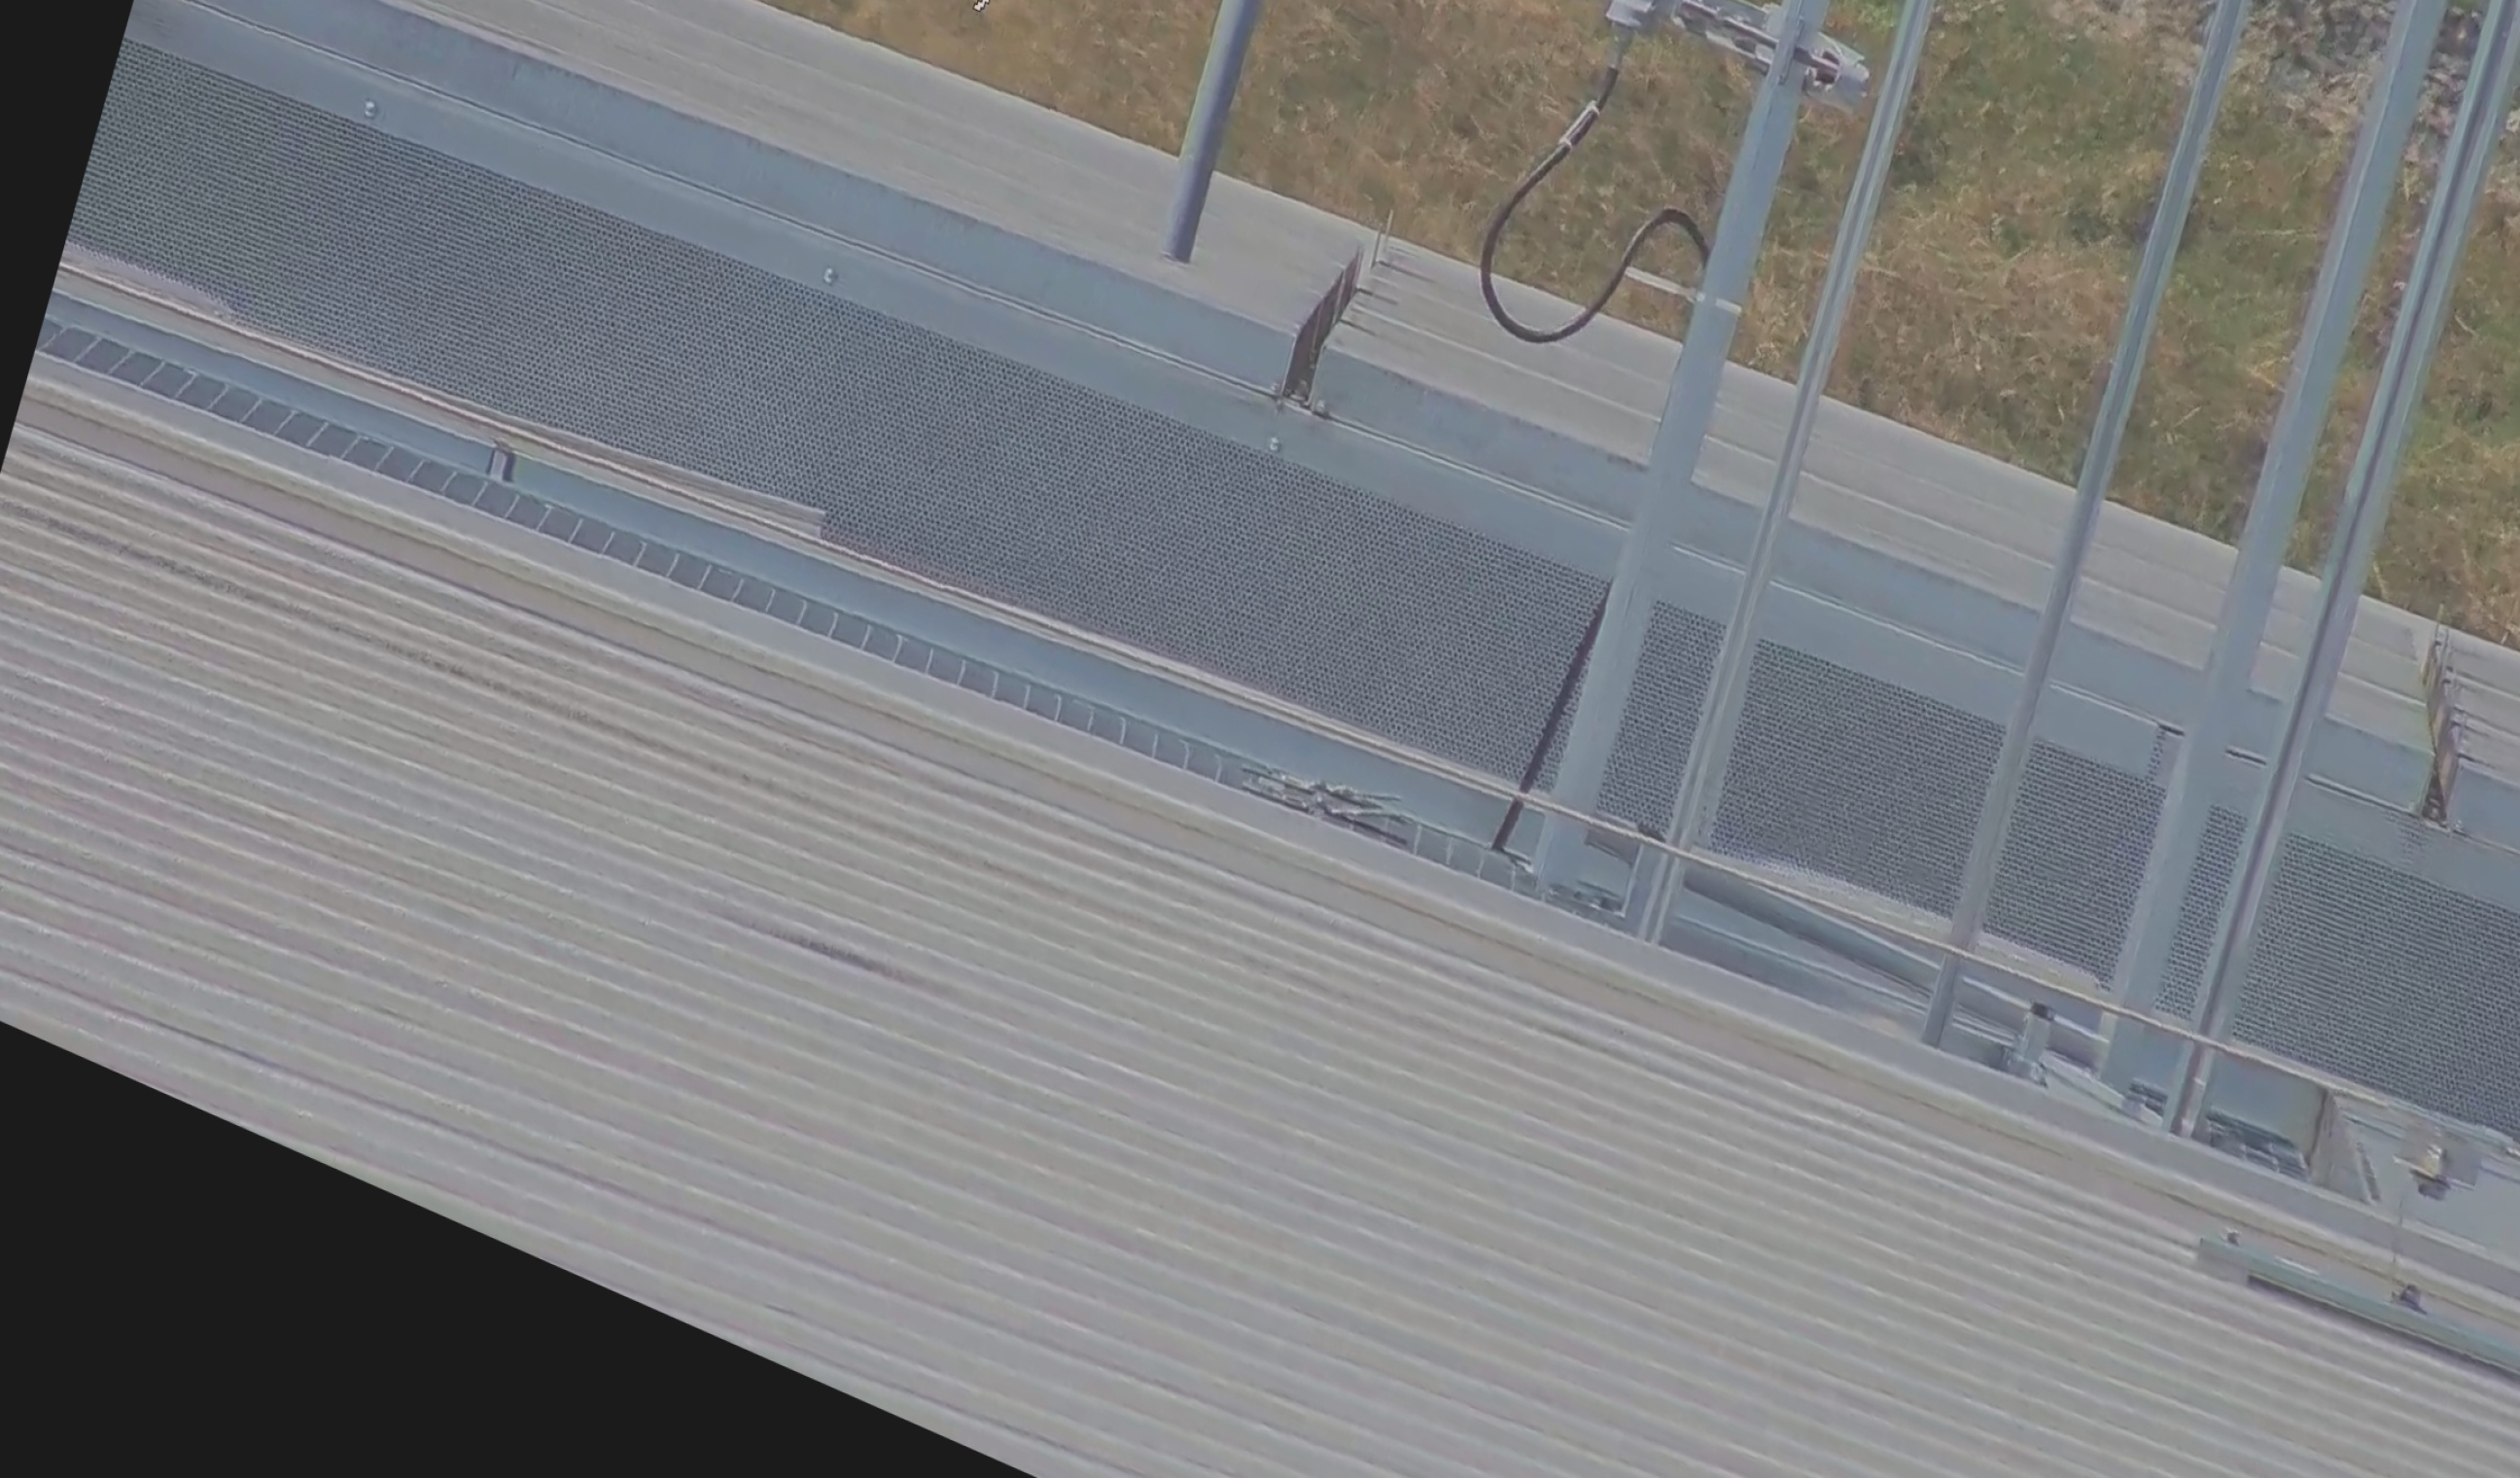Other: (1252, 206, 1389, 431), (1908, 487, 1998, 639)
